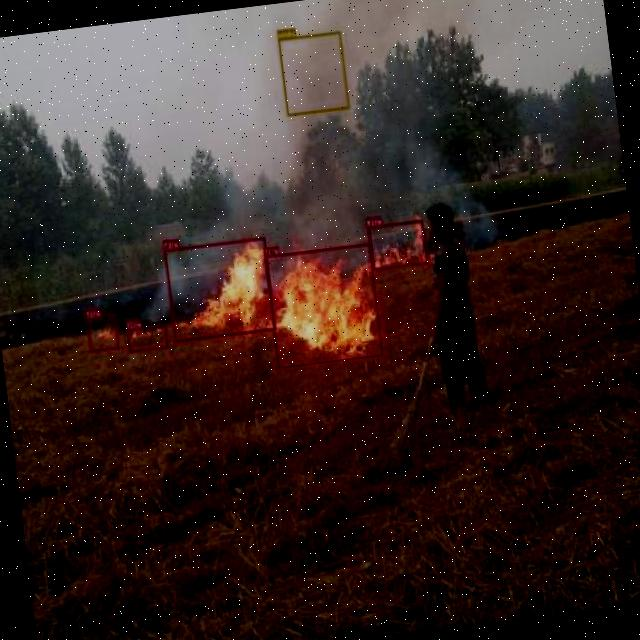fire: (263, 242, 382, 368), (163, 236, 276, 342), (367, 219, 427, 270), (125, 323, 168, 353), (86, 314, 119, 351)
smoke: (277, 30, 349, 116)
